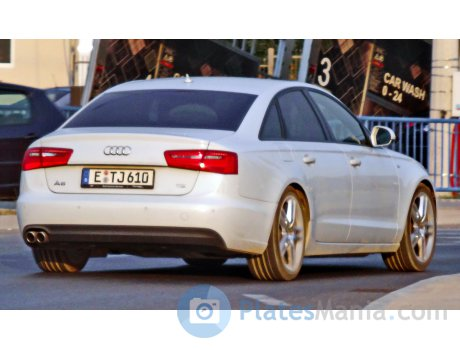License Plates: (92, 170, 150, 182)
